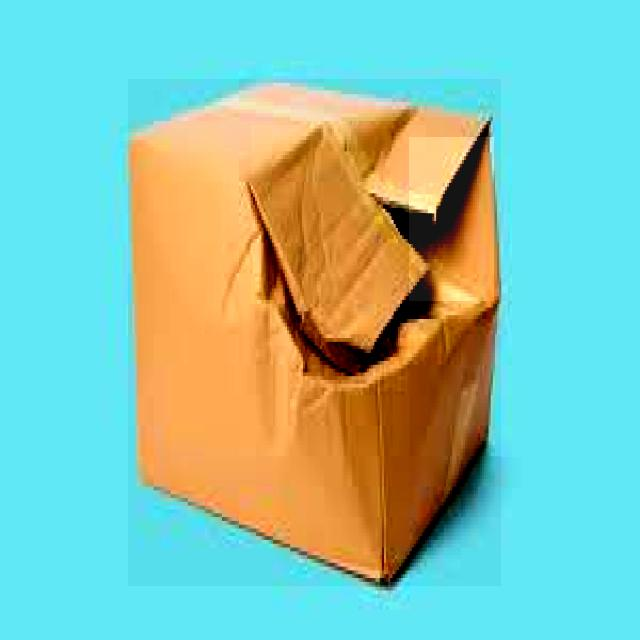Cardboard Box: (128, 80, 501, 586)
deform: (132, 87, 497, 578), (251, 125, 426, 346), (409, 137, 494, 301)
